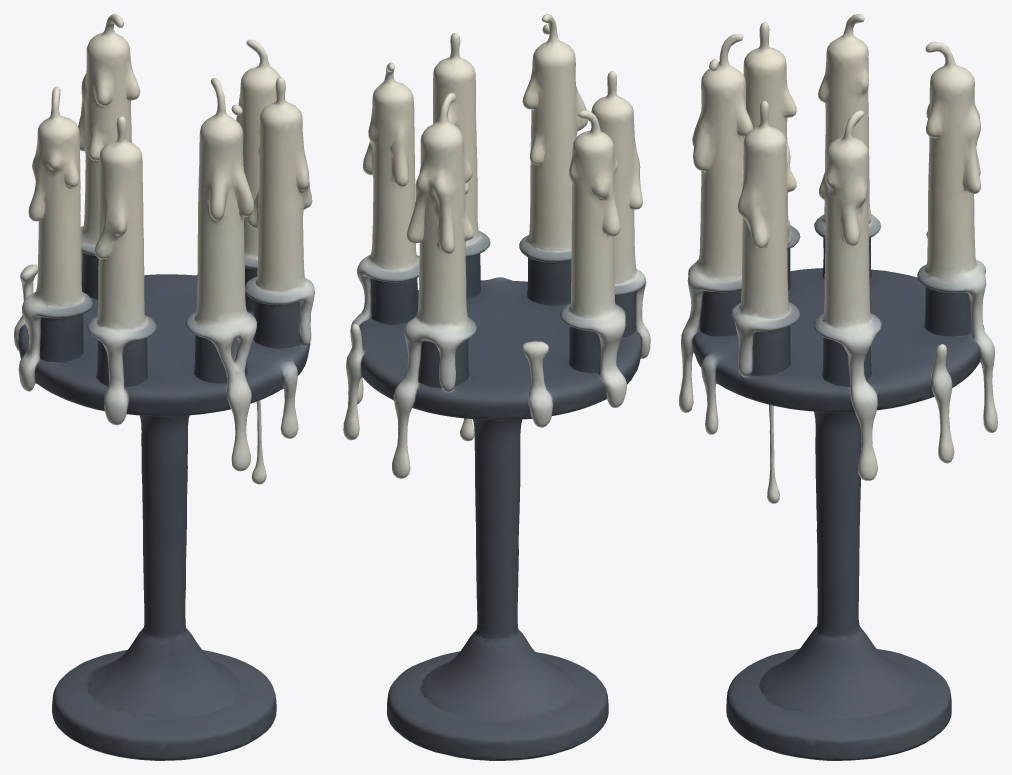
The model's file is candle_stand.glb.
3 renders of one model, left to right at view 1: azimuth 30°, elevation 25°; view 2: azimuth 150°, elevation 25°; view 3: azimuth 270°, elevation 25°, orthographic. The views are drawn at different scales.
Visible parts, largest first — view 1: Mesh; view 2: Mesh; view 3: Mesh.
Boxes of the visible parts, <box> form: Mesh: <box>14,14,314,760</box>; Mesh: <box>343,14,650,760</box>; Mesh: <box>679,14,997,760</box>.
Bounding box in the file's own units: 0.8006 × 1.9 × 0.8009.
1 material, 1 textured.
